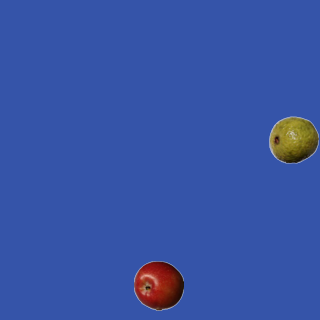Apple Braeburn: (133, 260, 183, 310)
Guava: (268, 114, 318, 164)
